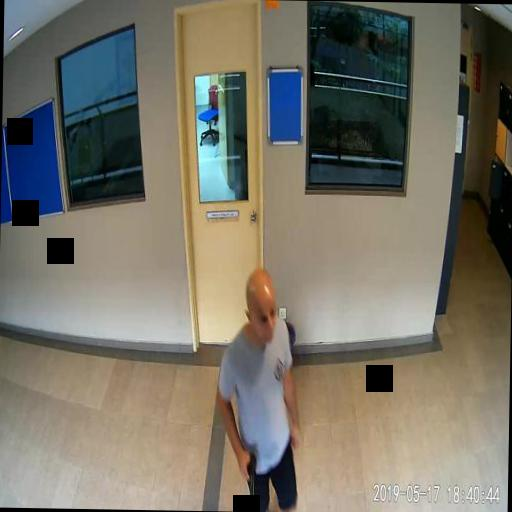Handgun: (240, 450, 256, 504)
